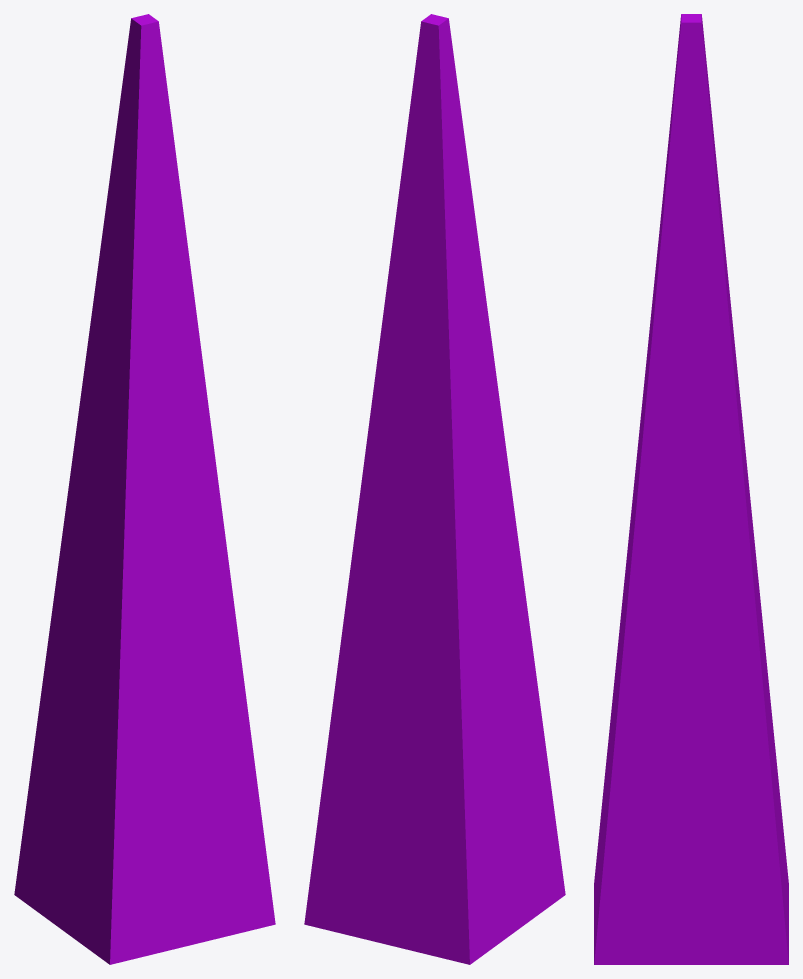
File: Spike.fbx
The picture shows the model from 3 angles, left to right: view 1: azimuth 30°, elevation 25°; view 2: azimuth 150°, elevation 25°; view 3: azimuth 270°, elevation 25°; orthographic projection.
Parts seen in each view (by area): view 1: Spike; view 2: Spike; view 3: Spike.
Part boxes in pixels (left/top/right/bottom): Spike: left=14, top=14, right=275, bottom=964; Spike: left=304, top=14, right=565, bottom=964; Spike: left=594, top=14, right=788, bottom=964.
Size of the model in its own units: 6.48 by 33.24 by 6.48.
